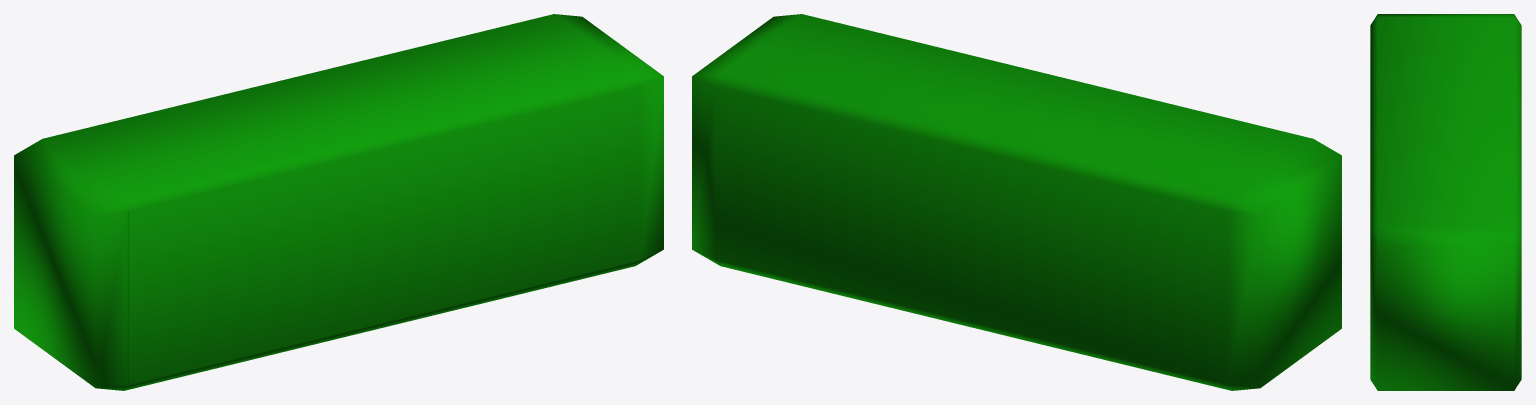
The model's file is Brick_01.obj.
3 views of the same model, side by side, from view 1: azimuth 30°, elevation 25°; view 2: azimuth 150°, elevation 25°; view 3: azimuth 270°, elevation 25° (orthographic). The views are drawn at different scales.
Parts seen in each view (by area): view 1: Cube_Paddle; view 2: Cube_Paddle; view 3: Cube_Paddle.
Boxes of the visible parts, <box> form: Cube_Paddle: <box>14,14,663,390</box>; Cube_Paddle: <box>692,14,1341,390</box>; Cube_Paddle: <box>1370,14,1521,390</box>.
Size of the model in its own units: 7.25 by 2.34 by 2.
Materials: 1 (1 with a texture image).
